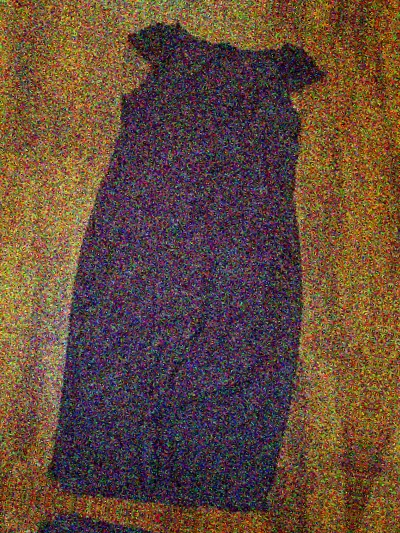Dress: (23, 8, 373, 533), (0, 504, 293, 533)
